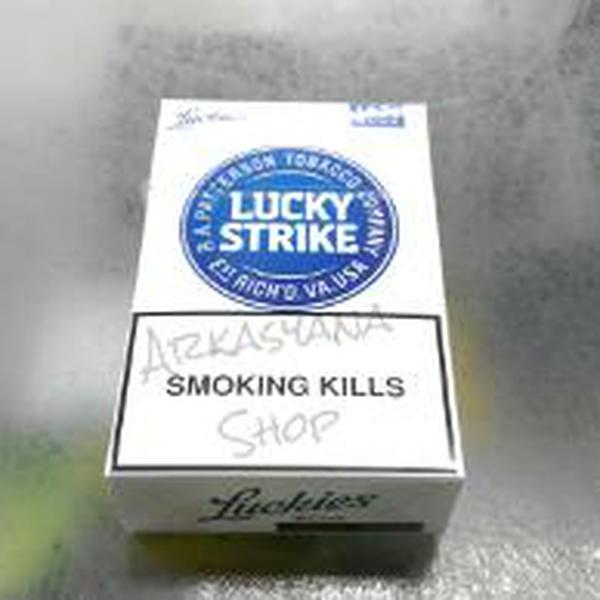lucky_strike_blue: (153, 97, 428, 471)
